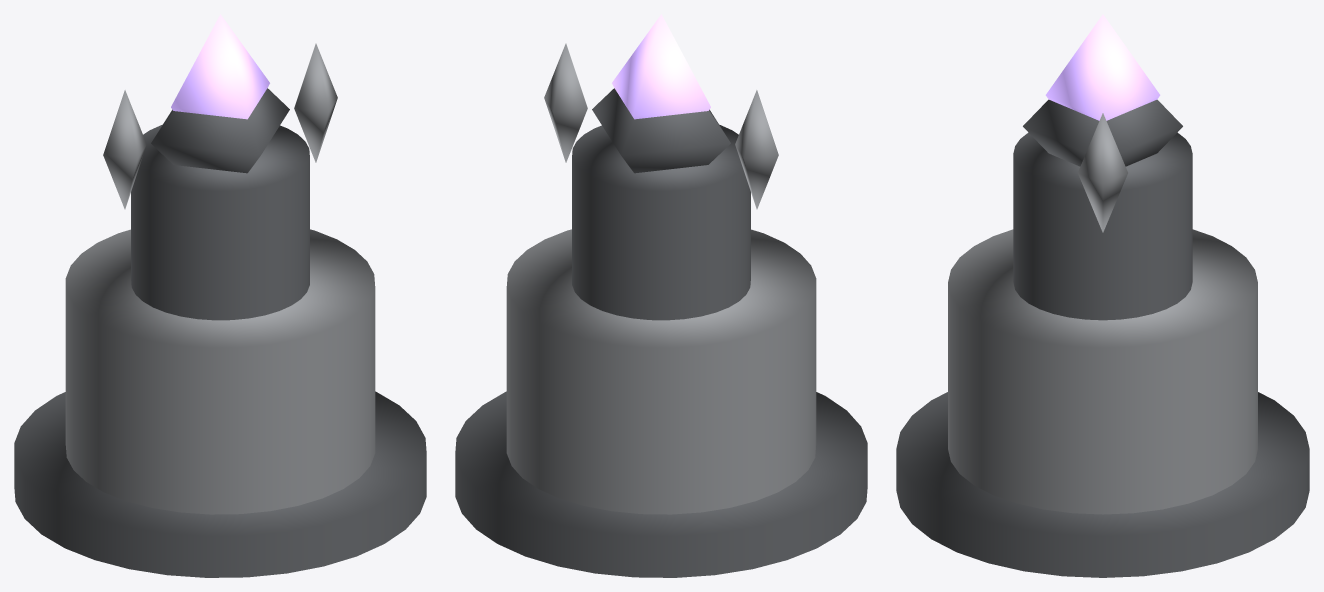
File: lightning_l1.glb
The picture shows the model from 3 angles, left to right: view 1: azimuth 30°, elevation 25°; view 2: azimuth 150°, elevation 25°; view 3: azimuth 270°, elevation 25°; orthographic projection.
Visible parts, largest first — view 1: base, footing, shaft, support, spinCrystal, shardL, shardR; view 2: base, footing, shaft, support, spinCrystal, shardL, shardR; view 3: base, footing, shaft, spinCrystal, support, shardR.
Part boxes in pixels (x1,y1,x2,y2): base: (65,229,375,514); footing: (14,391,426,577); shaft: (131,124,309,320); support: (151,88,289,173); spinCrystal: (171,14,269,119); shardL: (103,90,146,209); shardR: (294,43,337,162); base: (506,229,816,514); footing: (455,391,867,577); shaft: (572,124,750,320); support: (592,88,730,173); spinCrystal: (612,14,710,119); shardL: (735,90,778,209); shardR: (544,43,587,162); base: (948,229,1257,514); footing: (896,392,1309,577); shaft: (1013,132,1192,320); spinCrystal: (1045,14,1160,120); support: (1023,99,1182,166); shardR: (1078,113,1127,232).
Size of the model in its own units: 1.8 by 2.29 by 1.8.
